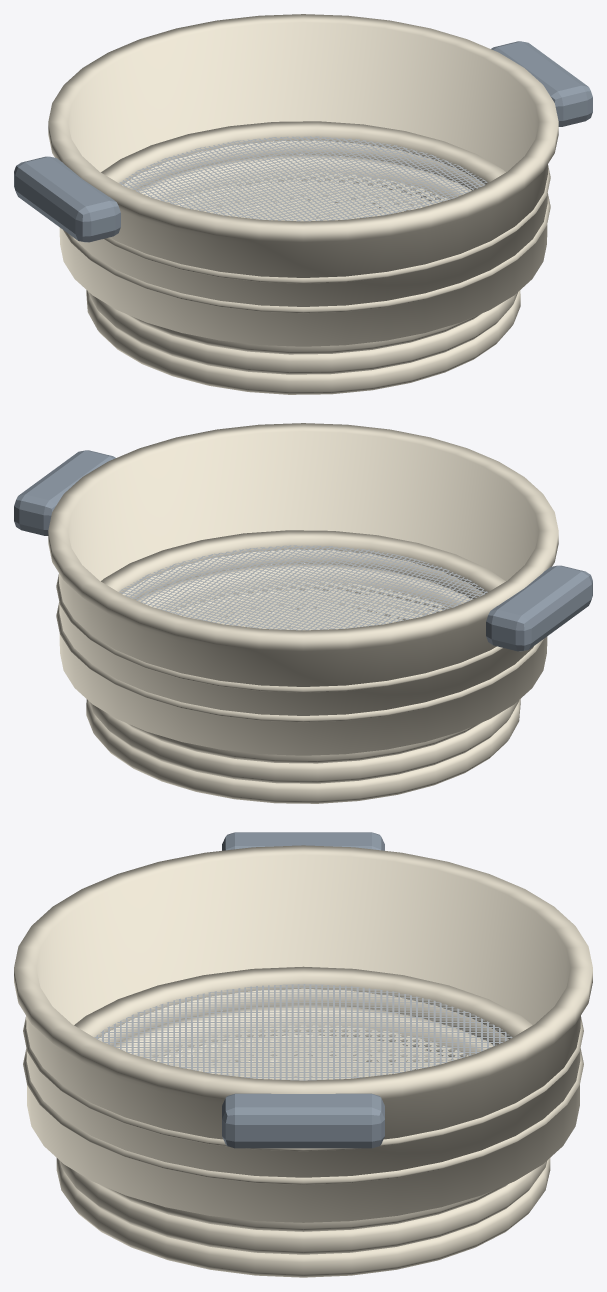
Rendered from item-45.glb.
The picture shows the model from 3 angles, top to bottom: view 1: azimuth 30°, elevation 25°; view 2: azimuth 150°, elevation 25°; view 3: azimuth 270°, elevation 25°; orthographic projection. The views are drawn at different scales.
Parts seen in each view (by area): view 1: frame, item_45, plate_rim.001, plate_rim, mesh_rim, plate_rim.002, plate.002, lug, rib, lug.001, rib.001, plate.001; view 2: frame, item_45, plate_rim.001, plate_rim, mesh_rim, plate_rim.002, lug, plate.002, rib, lug.001, rib.001, plate.001; view 3: frame, item_45, plate_rim.001, plate_rim, mesh_rim, plate_rim.002, lug.001, plate.002, rib, rib.001, lug, plate.001.
Part boxes in pixels (left/top/right/bottom): frame: left=48, top=14, right=558, bottom=346; item_45: left=119, top=136, right=487, bottom=221; plate_rim.001: left=87, top=181, right=517, bottom=374; plate_rim: left=86, top=202, right=520, bottom=394; mesh_rim: left=101, top=121, right=505, bottom=184; plate_rim.002: left=124, top=154, right=481, bottom=354; plate.002: left=158, top=172, right=448, bottom=221; lug: left=14, top=156, right=120, bottom=242; rib: left=63, top=193, right=550, bottom=313; lug.001: left=491, top=41, right=592, bottom=126; rib.001: left=104, top=165, right=550, bottom=283; plate.001: left=188, top=192, right=417, bottom=220; frame: left=48, top=423, right=558, bottom=755; item_45: left=119, top=545, right=487, bottom=630; plate_rim.001: left=89, top=590, right=519, bottom=783; plate_rim: left=86, top=611, right=520, bottom=803; mesh_rim: left=101, top=530, right=505, bottom=593; plate_rim.002: left=125, top=563, right=482, bottom=763; lug: left=486, top=565, right=592, bottom=651; plate.002: left=157, top=581, right=445, bottom=630; rib: left=56, top=602, right=543, bottom=722; lug.001: left=14, top=450, right=115, bottom=535; rib.001: left=56, top=574, right=502, bottom=692; plate.001: left=189, top=601, right=418, bottom=629; frame: left=14, top=845, right=592, bottom=1222; item_45: left=94, top=984, right=512, bottom=1080; plate_rim.001: left=60, top=1035, right=546, bottom=1254; plate_rim: left=56, top=1059, right=550, bottom=1277; mesh_rim: left=74, top=966, right=532, bottom=1039; plate_rim.002: left=99, top=1005, right=507, bottom=1231; lug.001: left=222, top=1093, right=384, bottom=1148; plate.002: left=139, top=1024, right=468, bottom=1080; rib: left=23, top=1049, right=583, bottom=1184; rib.001: left=23, top=1017, right=583, bottom=1151; lug: left=222, top=832, right=384, bottom=850; plate.001: left=175, top=1049, right=431, bottom=1080.
Bounding box in the file's own units: 0.257 × 0.0868 × 0.22.
4 materials, 2 textured.
